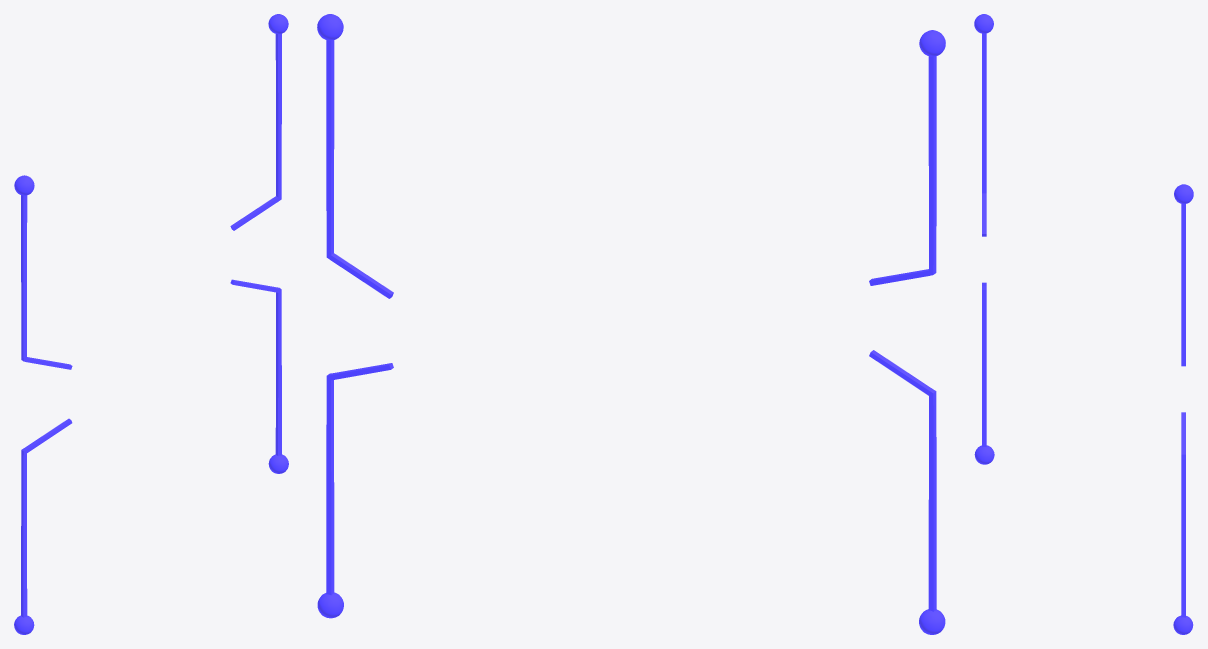
File: SegnPortraitSocial2.gltf
The picture shows the model from 3 angles, left to right: view 1: azimuth 30°, elevation 25°; view 2: azimuth 150°, elevation 25°; view 3: azimuth 270°, elevation 25°; orthographic projection. The views are drawn at different scales.
Visible parts, largest first — view 1: ListnerModuli.009; view 2: ListnerModuli.009; view 3: ListnerModuli.009.
Part boxes in pixels (x1,y1,x2,y2): ListnerModuli.009: [14, 14, 288, 634]; ListnerModuli.009: [317, 14, 945, 634]; ListnerModuli.009: [974, 14, 1193, 634].
Bounding box in the file's own units: 0.8982 × 1.05 × 0.4666.
